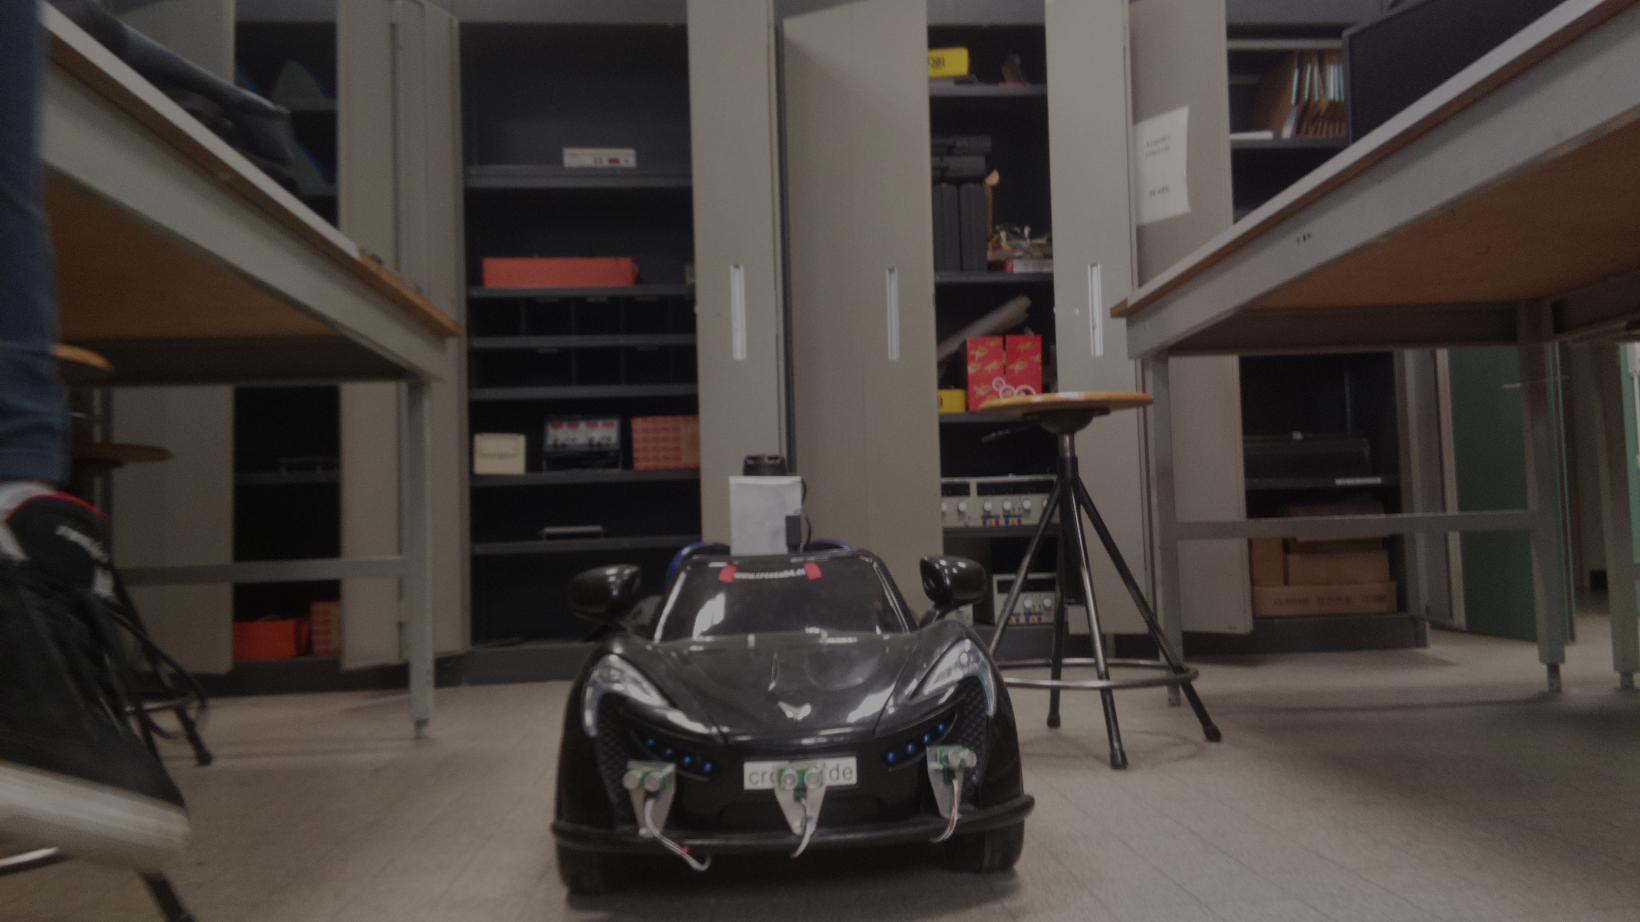big: (549, 453, 1039, 895)
